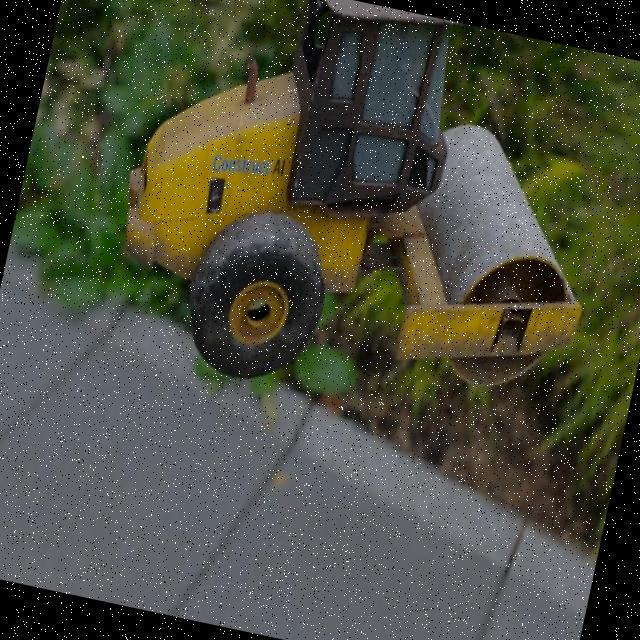Roller: (90, 0, 635, 447)
